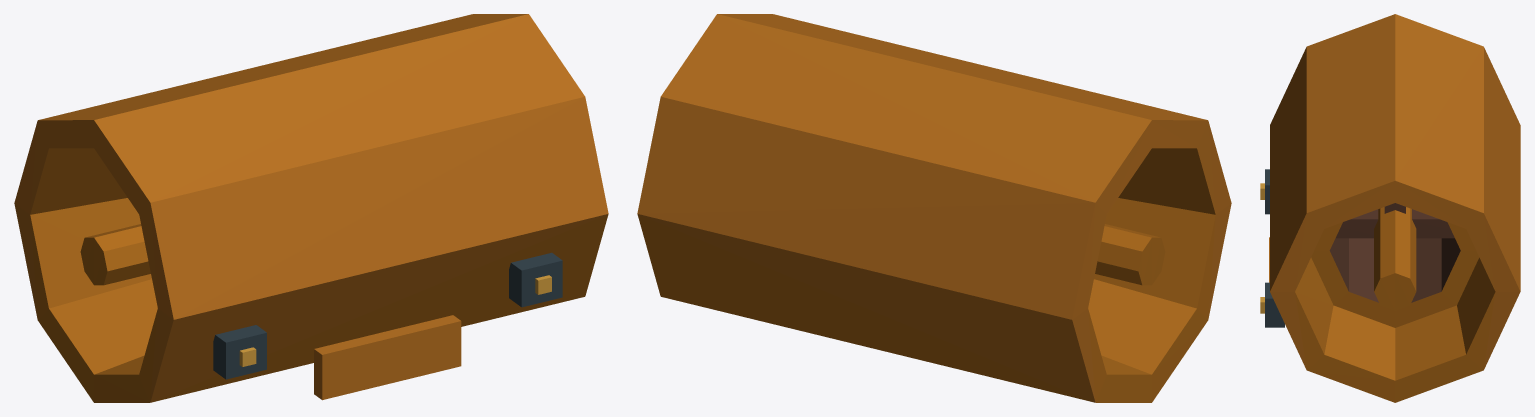
File: quay-cart-butter.glb
The picture shows the model from 3 angles, left to right: view 1: azimuth 30°, elevation 25°; view 2: azimuth 150°, elevation 25°; view 3: azimuth 270°, elevation 25°; orthographic projection. The views are drawn at different scales.
Visible parts, largest first — view 1: quay-cart-butter; view 2: quay-cart-butter; view 3: quay-cart-butter.
Boxes of the visible parts, <box> form: quay-cart-butter: <box>14,14,608,402</box>; quay-cart-butter: <box>637,14,1231,402</box>; quay-cart-butter: <box>1260,14,1520,402</box>.
Bounding box in the file's own units: 1.48 × 0.92 × 0.9757.
